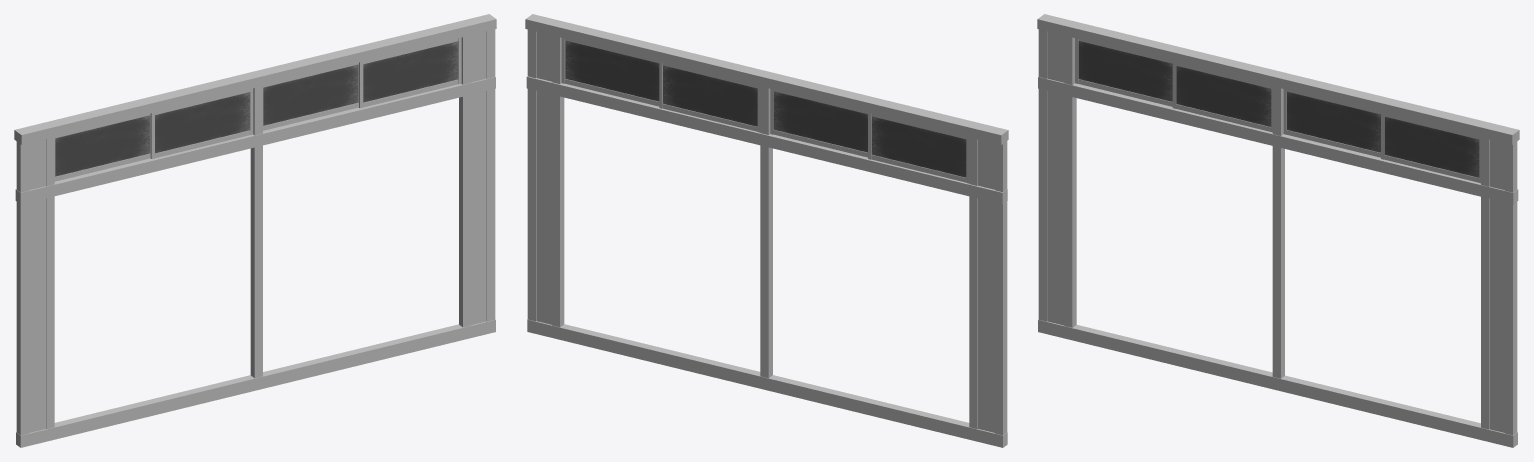
Rendered from shop_f_dagasiya01.fbx.
The picture shows the model from 3 angles, left to right: view 1: azimuth 30°, elevation 25°; view 2: azimuth 150°, elevation 25°; view 3: azimuth 330°, elevation 25°; orthographic projection.
Visible parts, largest first — view 1: shop_f_dagasiya01; view 2: shop_f_dagasiya01; view 3: shop_f_dagasiya01.
Boxes of the visible parts, x1,y1,x2,y2 form: shop_f_dagasiya01: (14, 14, 496, 447); shop_f_dagasiya01: (525, 14, 1008, 447); shop_f_dagasiya01: (1037, 14, 1519, 447).
Bounding box in the file's own units: 5.4 × 3.41 × 0.1403.
